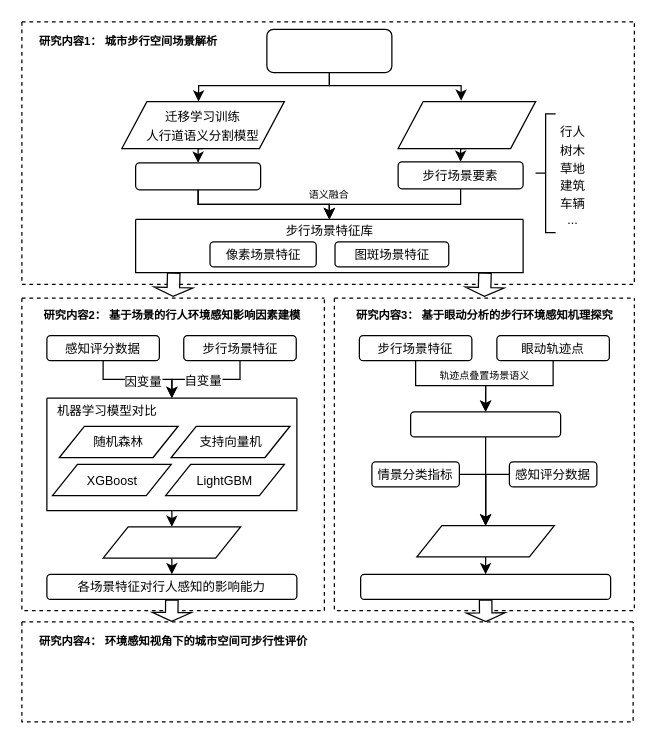
Some shapes in this 656 by 744 pixel diagram are drawn without their labels. Each missing label, with the box of its shape:
DeepLabV3+ 语义分割框架: (397, 100, 536, 148)
SHAP解释框架: (102, 526, 241, 558)
人行道范围: (134, 162, 261, 190)
眼动语义统计指标: (409, 411, 561, 437)
线性回归模型: (416, 524, 554, 557)
行人感知步行环境的认知过程: (359, 573, 611, 599)
行人视角 街道场景图片: (266, 28, 392, 72)
